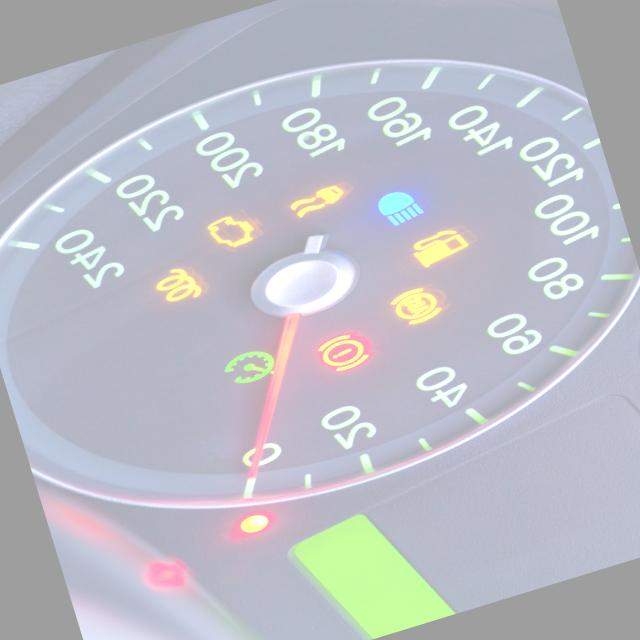kontrolka: (378, 274, 457, 339), (308, 319, 382, 382), (276, 172, 358, 226), (402, 220, 482, 274), (141, 254, 213, 314), (197, 200, 266, 256), (365, 178, 434, 234)
